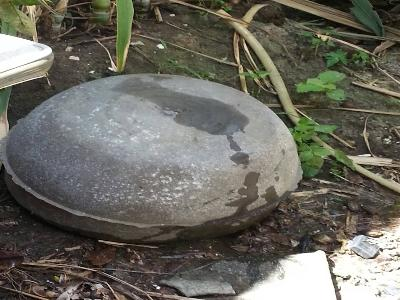bowl: (1, 69, 306, 248)
